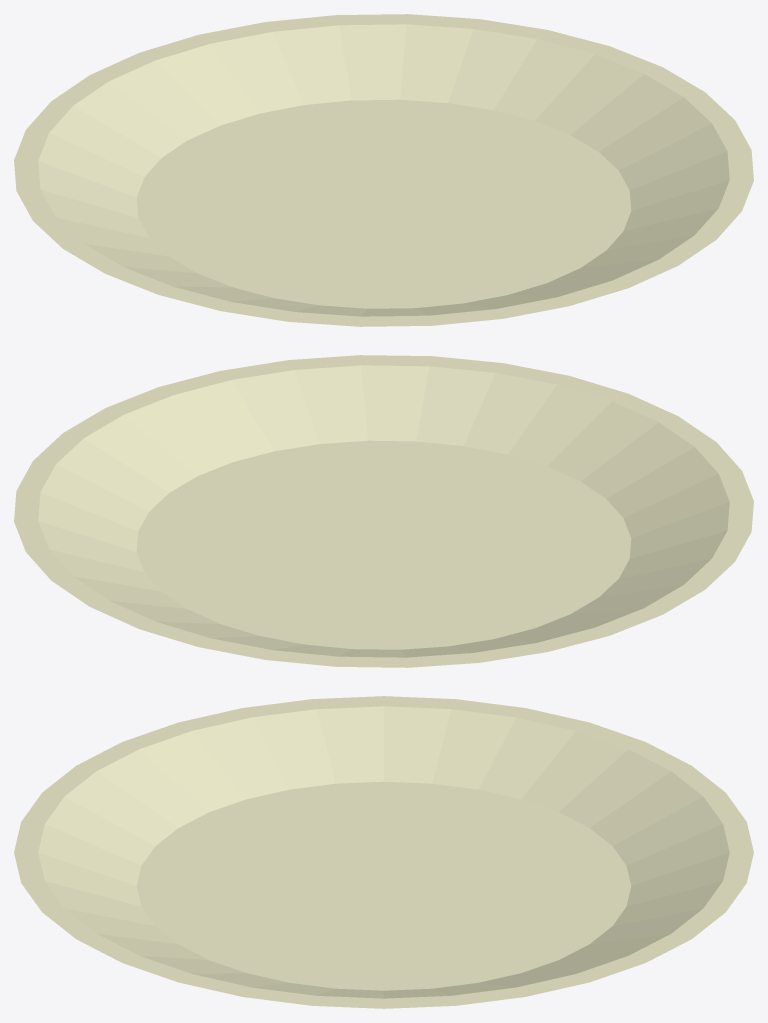
File: prato.fbx
3 renders of one model, top to bottom at view 1: azimuth 30°, elevation 25°; view 2: azimuth 150°, elevation 25°; view 3: azimuth 270°, elevation 25°, orthographic.
Visible parts, largest first — view 1: Plate; view 2: Plate; view 3: Plate.
Part boxes in pixels (bbox=[...]): Plate: bbox=[14, 14, 753, 326]; Plate: bbox=[14, 355, 753, 667]; Plate: bbox=[14, 696, 753, 1008].
Size of the model in its own units: 23.15 by 2.14 by 23.15.
